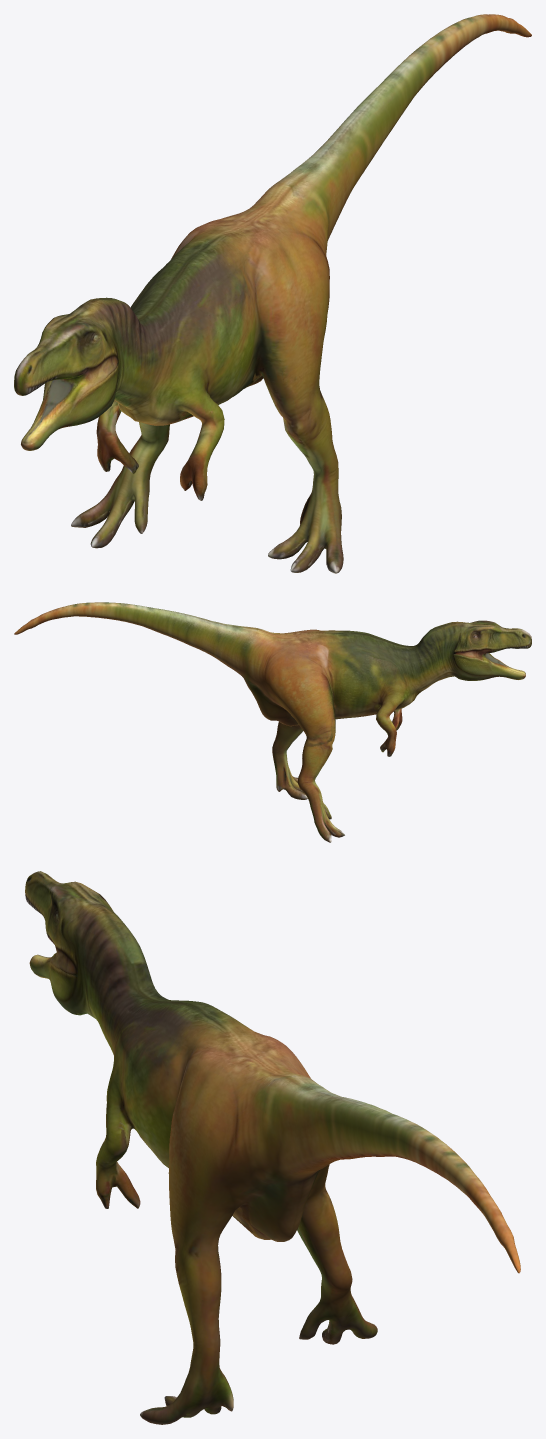
The picture shows the model from 3 angles, top to bottom: view 1: azimuth 30°, elevation 25°; view 2: azimuth 150°, elevation 25°; view 3: azimuth 270°, elevation 25°; orthographic projection. The views are drawn at different scales.
Visible parts, largest first — view 1: Mesh0; view 2: Mesh0; view 3: Mesh0.
Part boxes in pixels (bbox=[...]): Mesh0: bbox=[14, 14, 531, 573]; Mesh0: bbox=[14, 602, 531, 842]; Mesh0: bbox=[25, 871, 520, 1424].
Bounding box in the file's own units: 0.0719 × 0.0353 × 0.039.
1 material, 1 textured.
